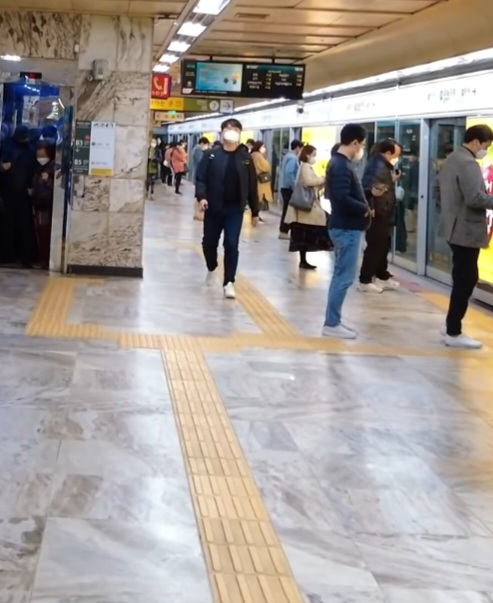guideBlock: (161, 363, 236, 424), (157, 399, 240, 450), (197, 516, 292, 554), (210, 541, 301, 578), (184, 487, 271, 525), (186, 463, 260, 504), (215, 569, 300, 603), (175, 439, 251, 473), (161, 348, 206, 384)
